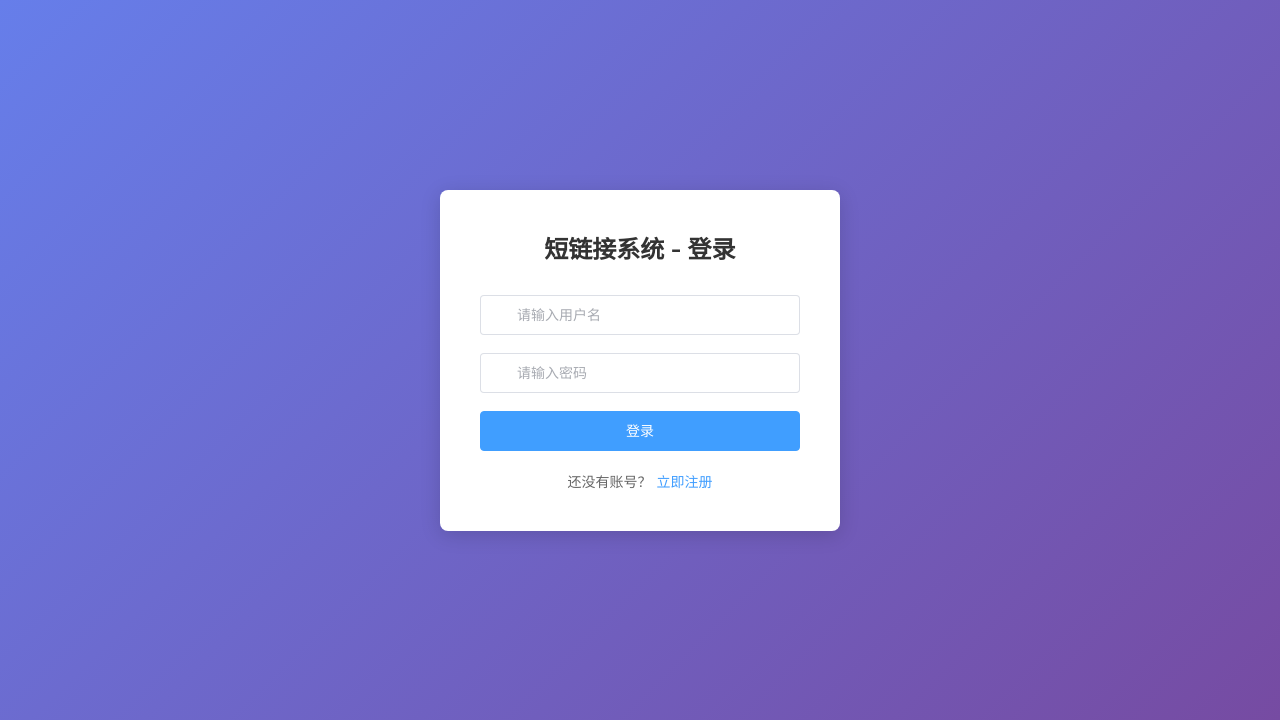
Scenario: 监控统计展示测试 › 正常监控统计展示流程 › 应成功显示监控统计页面
Type "testuser" into the field with placeholder "请输入用户名" at (651, 315), box [517,296,785,334]
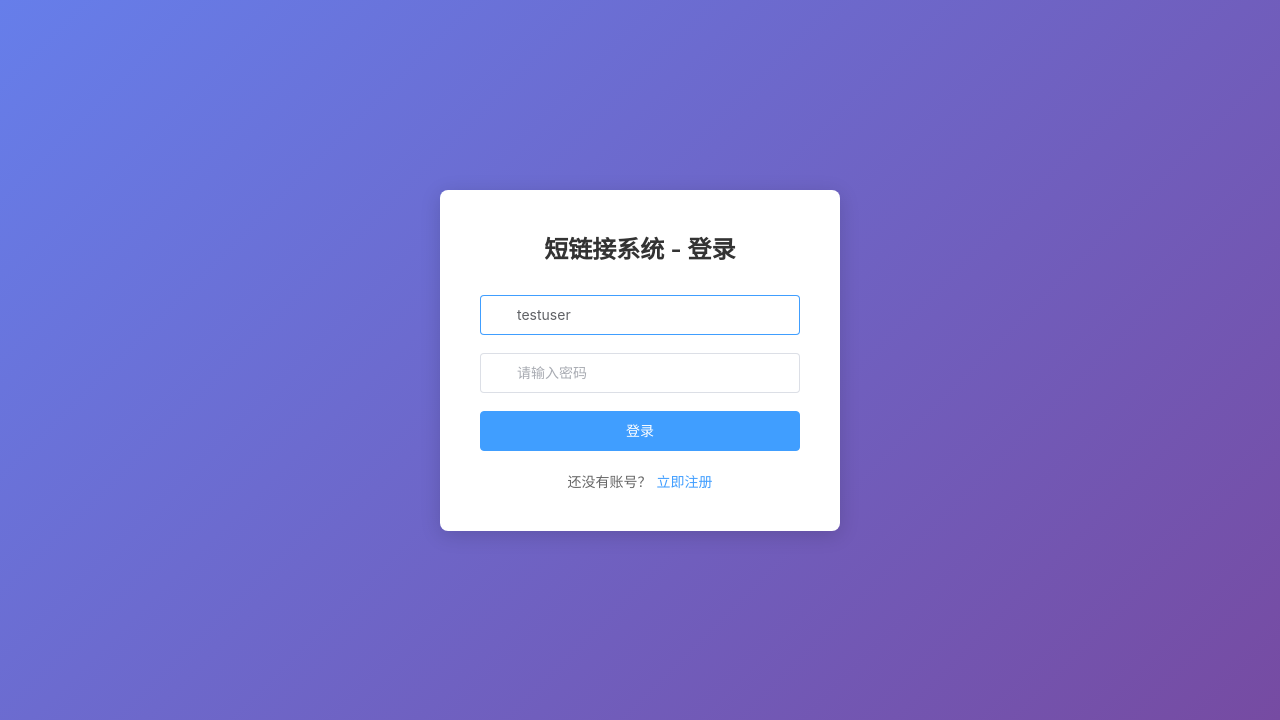
Type "test123456" into the password field with placeholder "请输入密码" at (651, 373), box [517,354,785,392]
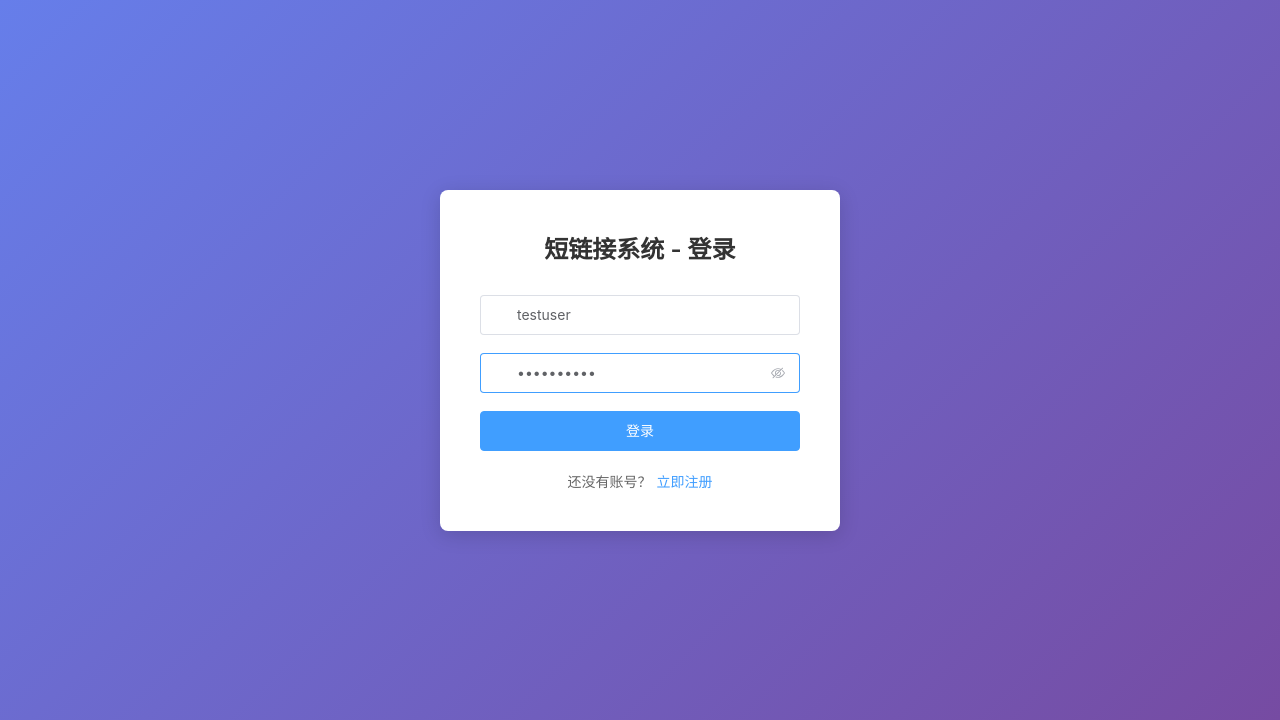
Click the button "登录" at (640, 431), box [480,411,800,451]
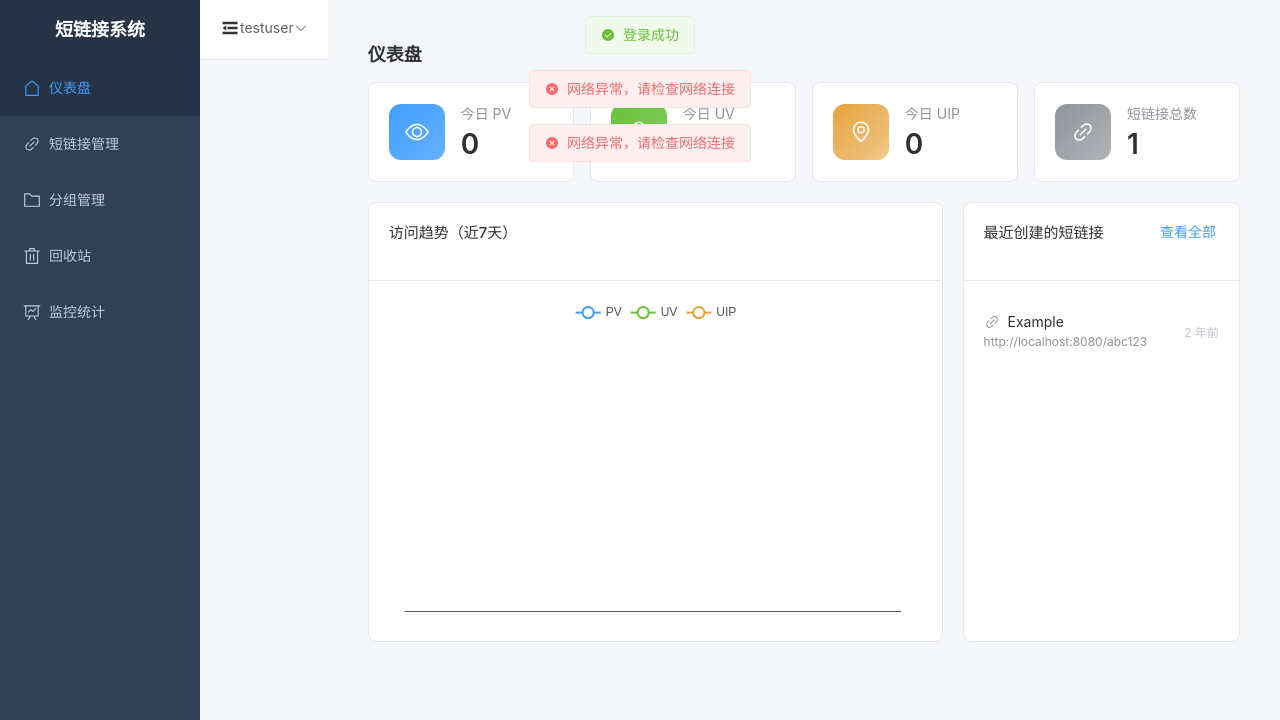
Open "/stats"
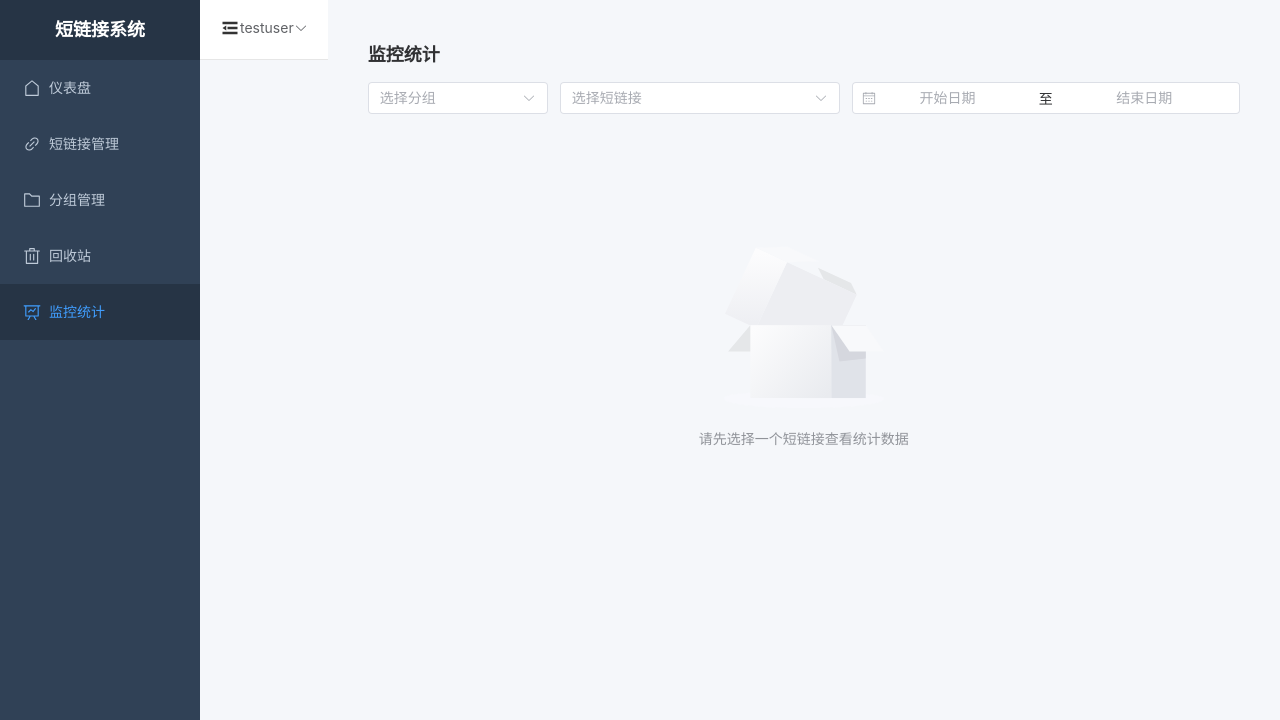
expect the heading "监控统计" is shown: met, box [368,44,440,65]
